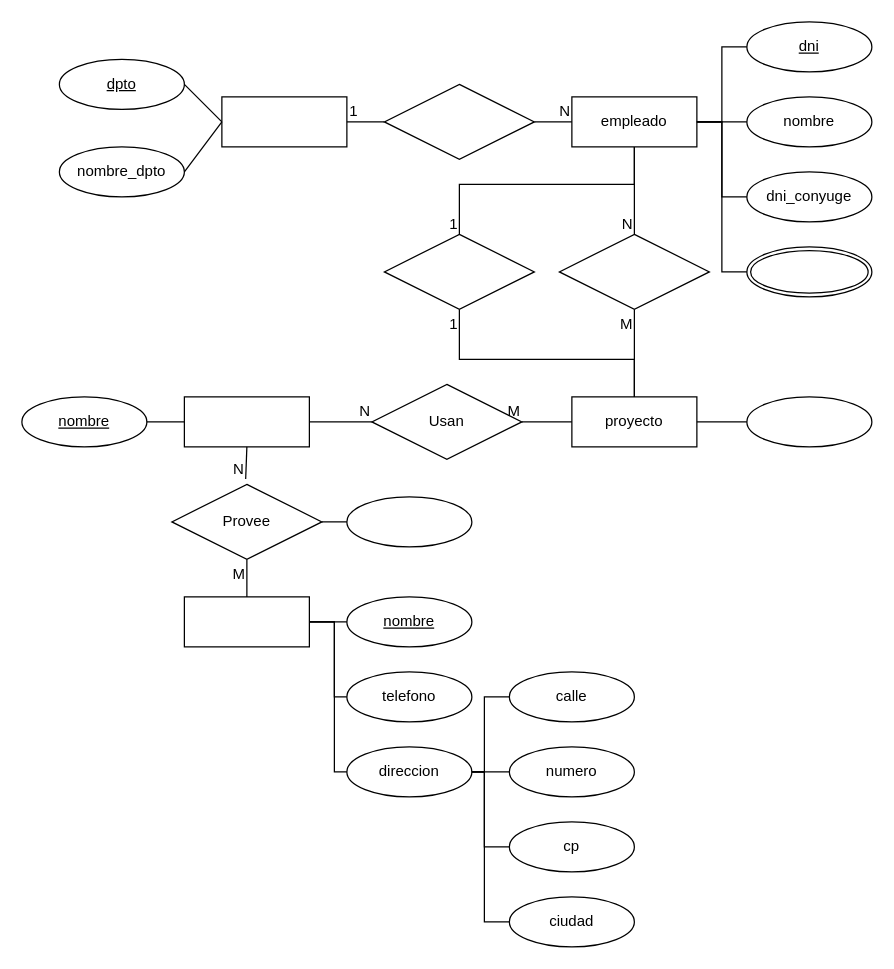
This 894x969 diagram has some shape labels left out. The centre of each missing label's shape, as x and y in pixels:
"departamento" belongs at point (284, 121).
"Dirige" belongs at point (458, 271).
"dni_hijos" belongs at point (809, 271).
"nombre_proy" belongs at point (809, 421).
"Pertenece" belongs at point (458, 121).
"precio" belongs at point (409, 521).
"producto" belongs at point (246, 421).
"Proveedor" belongs at point (246, 621).
"Trabaja_En" belongs at point (633, 271).
